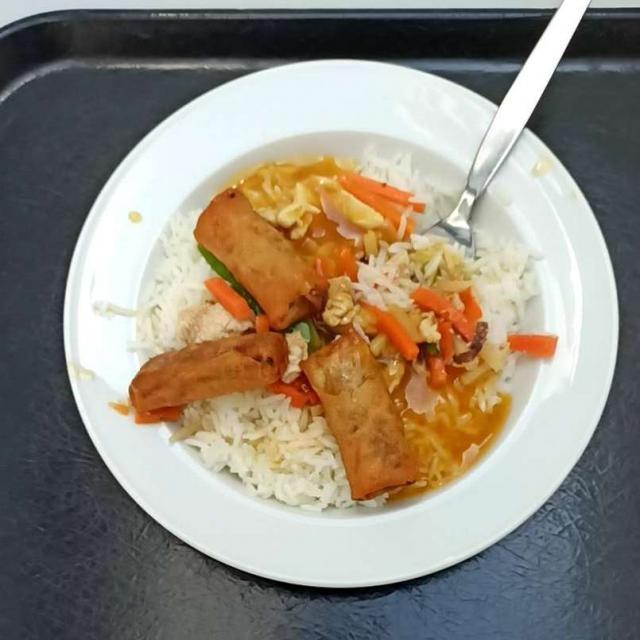mixed-vegetables: (287, 171, 510, 381)
rice: (140, 155, 524, 506)
sauce: (238, 158, 506, 470)
